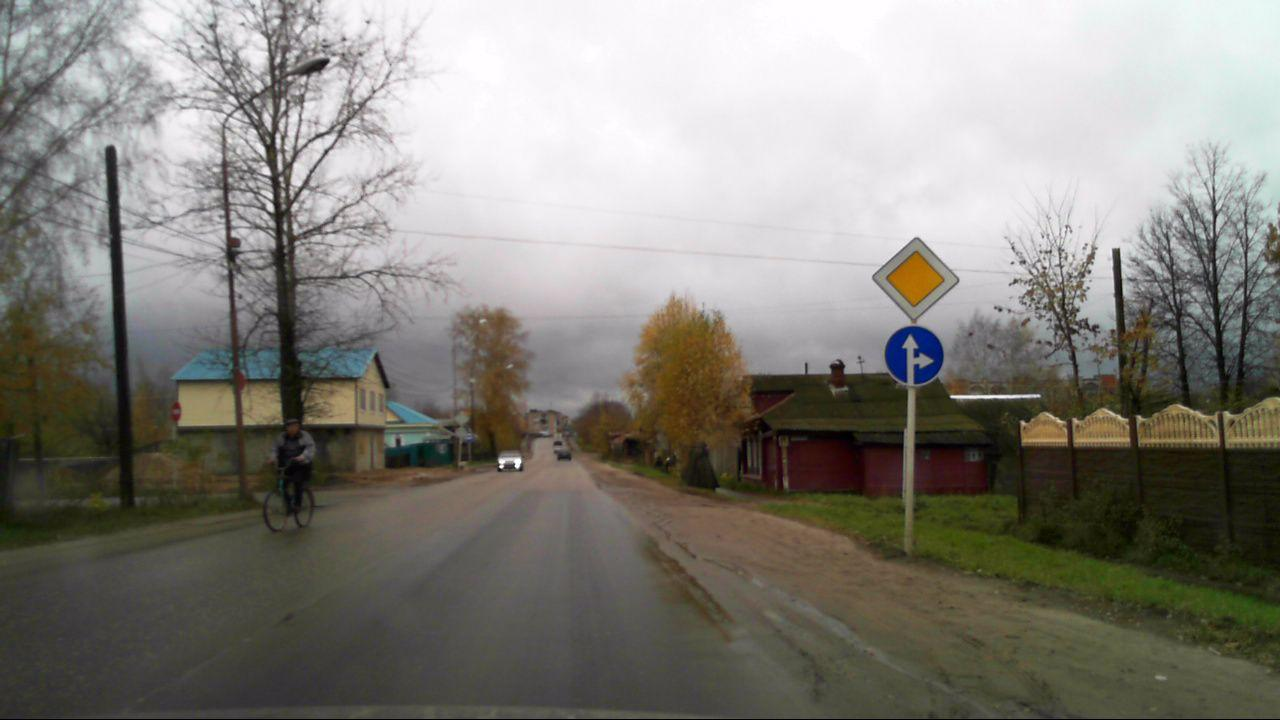road_sign: (868, 228, 964, 325), (882, 321, 949, 389)
